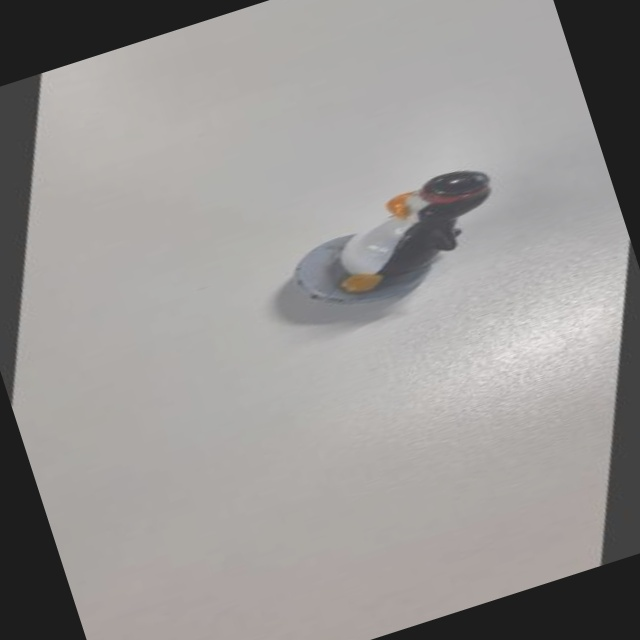Penguin: (230, 142, 535, 354)
